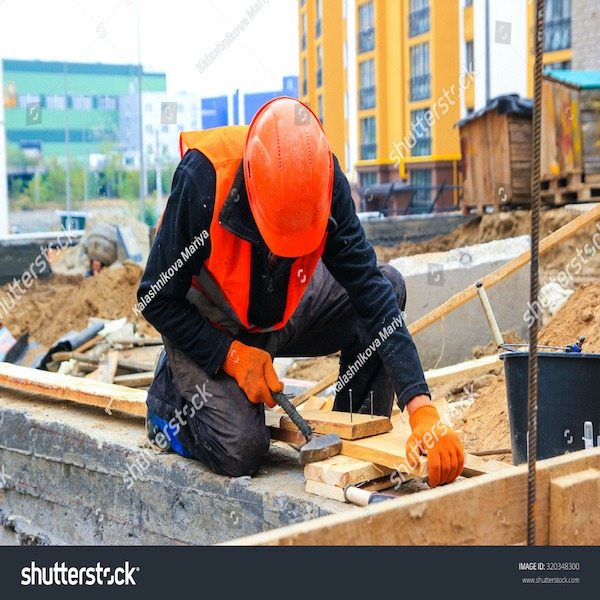helmet: (251, 111, 338, 260)
vest: (175, 137, 250, 325)
